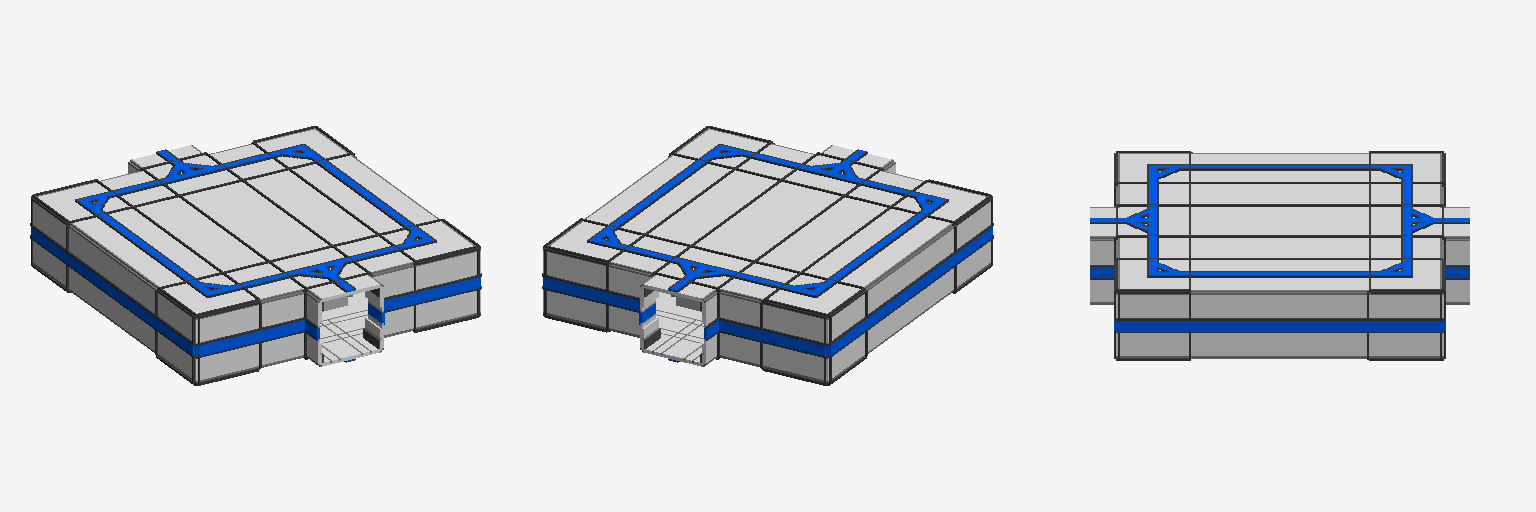
3 views of the same model, side by side, from view 1: azimuth 30°, elevation 25°; view 2: azimuth 150°, elevation 25°; view 3: azimuth 270°, elevation 25° (orthographic).
Visible parts, largest first — view 1: object 1; view 2: object 1; view 3: object 1.
Part boxes in pixels (x1,y1,x2,y2): object 1: (30, 126, 481, 385); object 1: (542, 126, 993, 385); object 1: (1090, 151, 1469, 360).
Size of the model in its own units: 16.8 by 4 by 19.2.
1 materials, 1 textured.